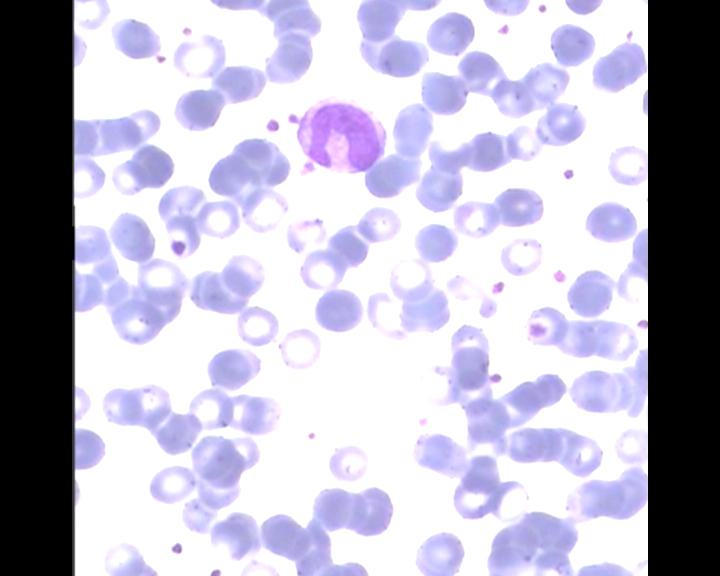mono: (291, 96, 394, 178)
